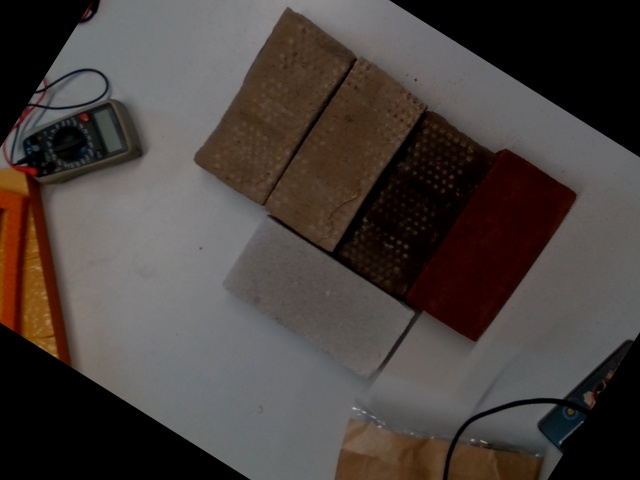brick: (191, 8, 357, 206), (263, 56, 429, 253), (221, 220, 413, 382), (410, 149, 572, 341), (336, 111, 493, 299)
